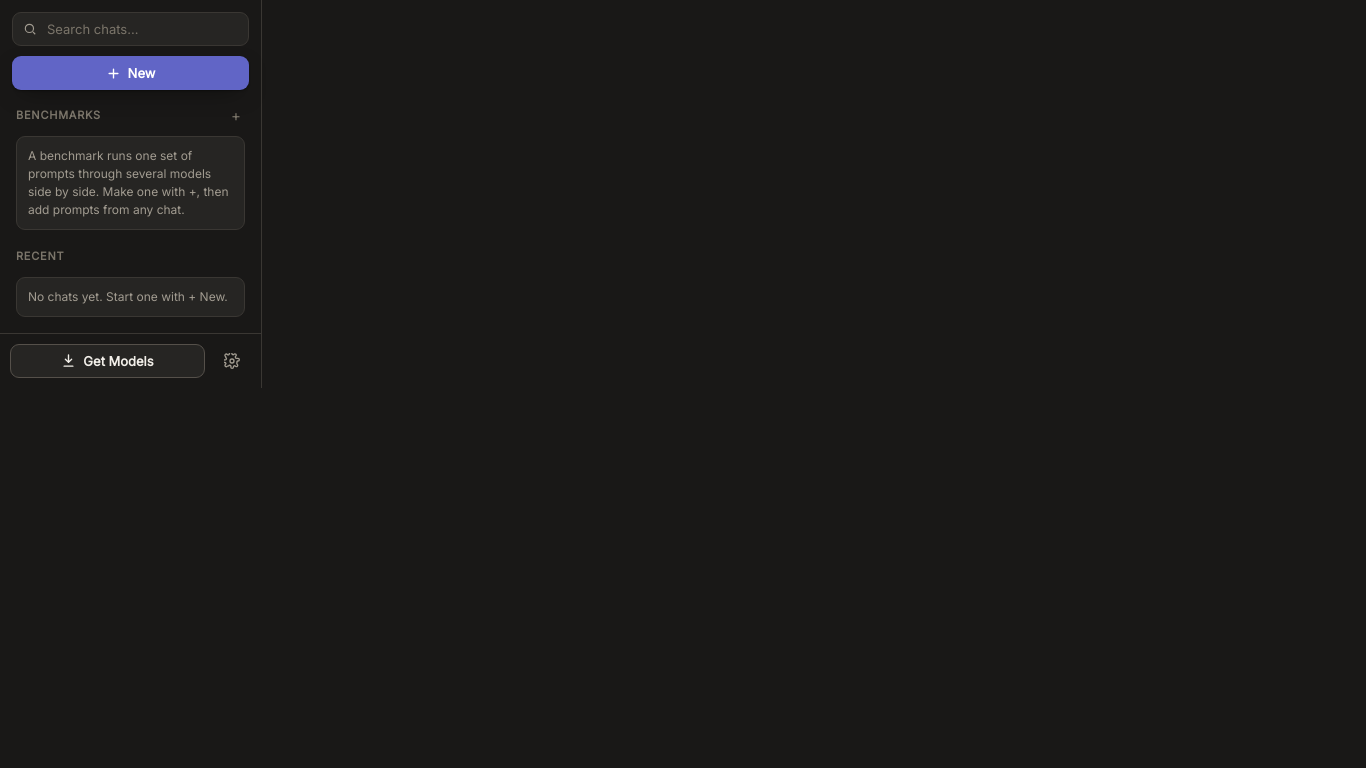
Scenario: + New › offers the full installed list behind 'Load a different model…'
The image size is (1366, 768).
Click the button "New".
click(130, 73)  # box [12, 56, 249, 90]
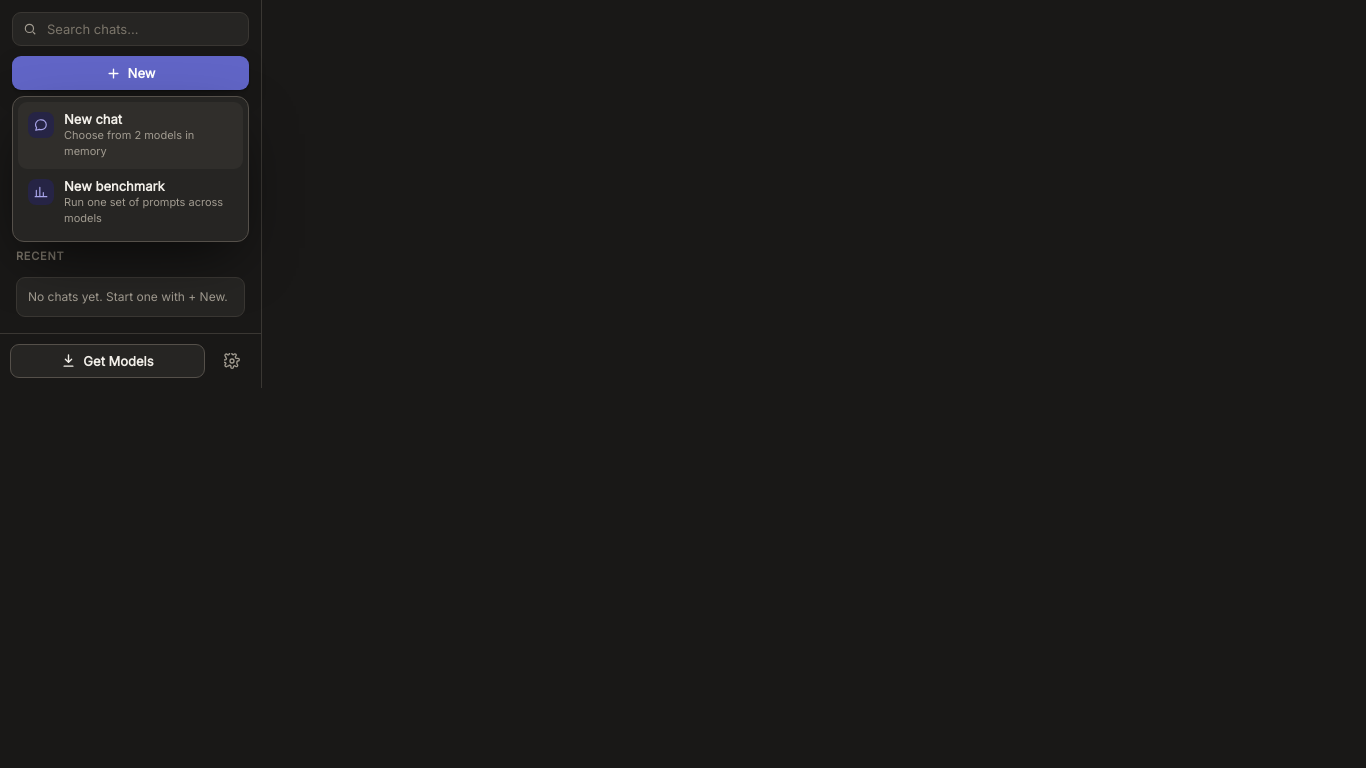
Expected: the text "Choose from 2 models in memory" is shown, [64, 128, 194, 158]
Click the menu item "New chat Choose from 2 models in memory".
click(130, 135)  # box [18, 102, 243, 169]
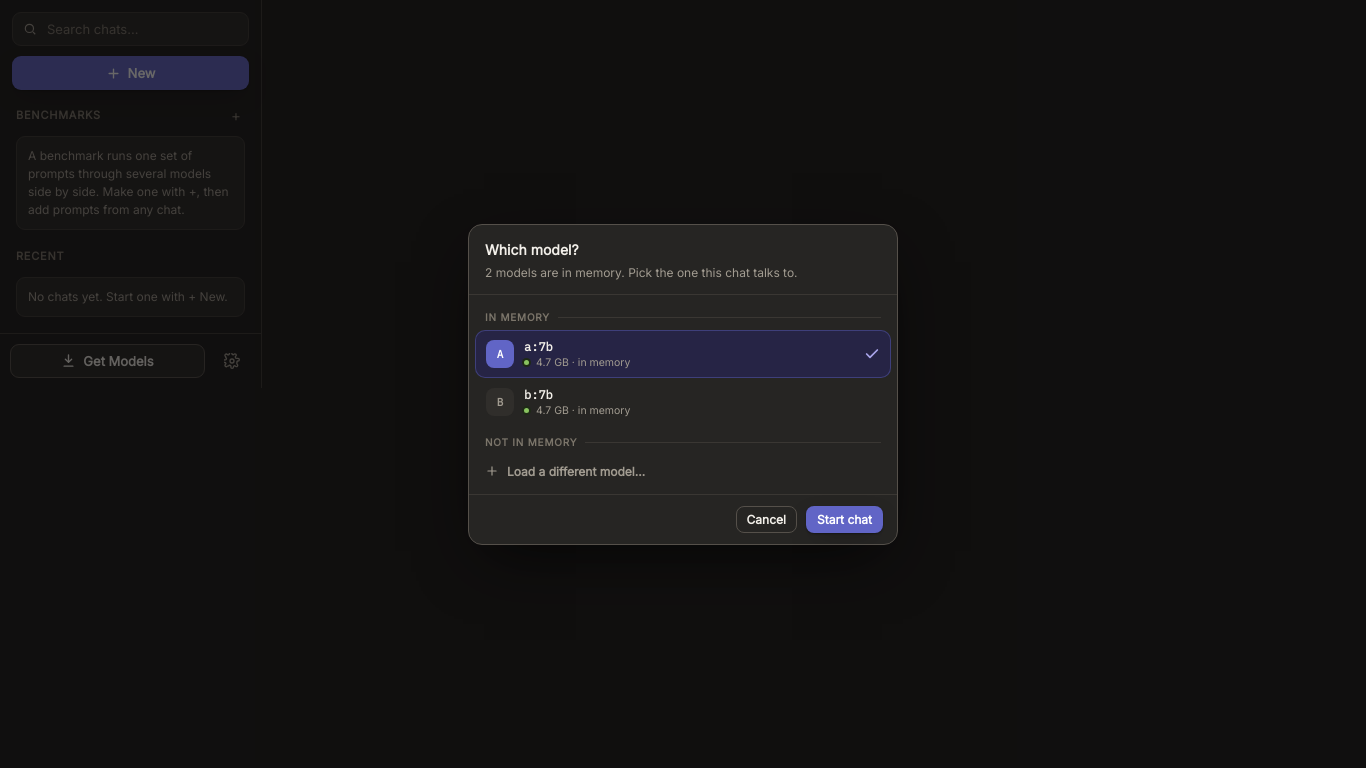
Expected: the radio button labelled "cold:13b" is not shown
Click the button "Load a different model…".
click(576, 471)  # box [475, 454, 891, 488]
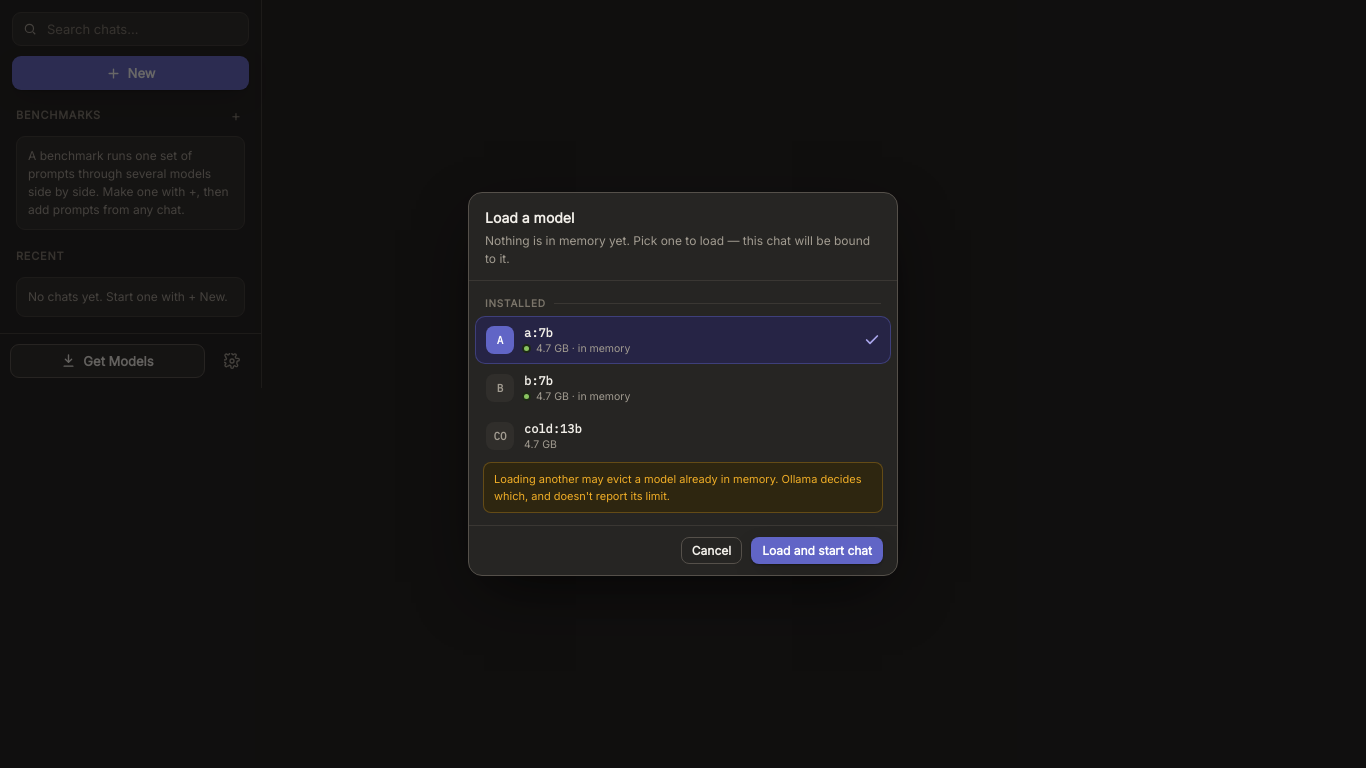
Expected: the radio button labelled "CO cold:13b 4.7 GB" is shown, [475, 412, 891, 460]
Expected: the text "may evict a model already in memory" is shown, [494, 472, 862, 502]
